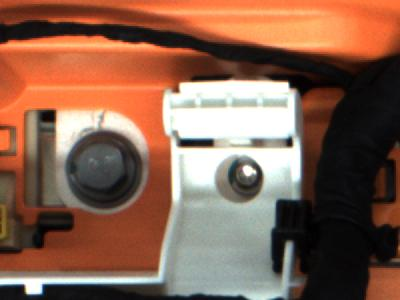nut_b: (64, 128, 146, 208)
